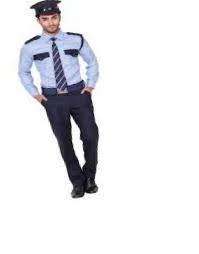uniform: (21, 1, 109, 197)
